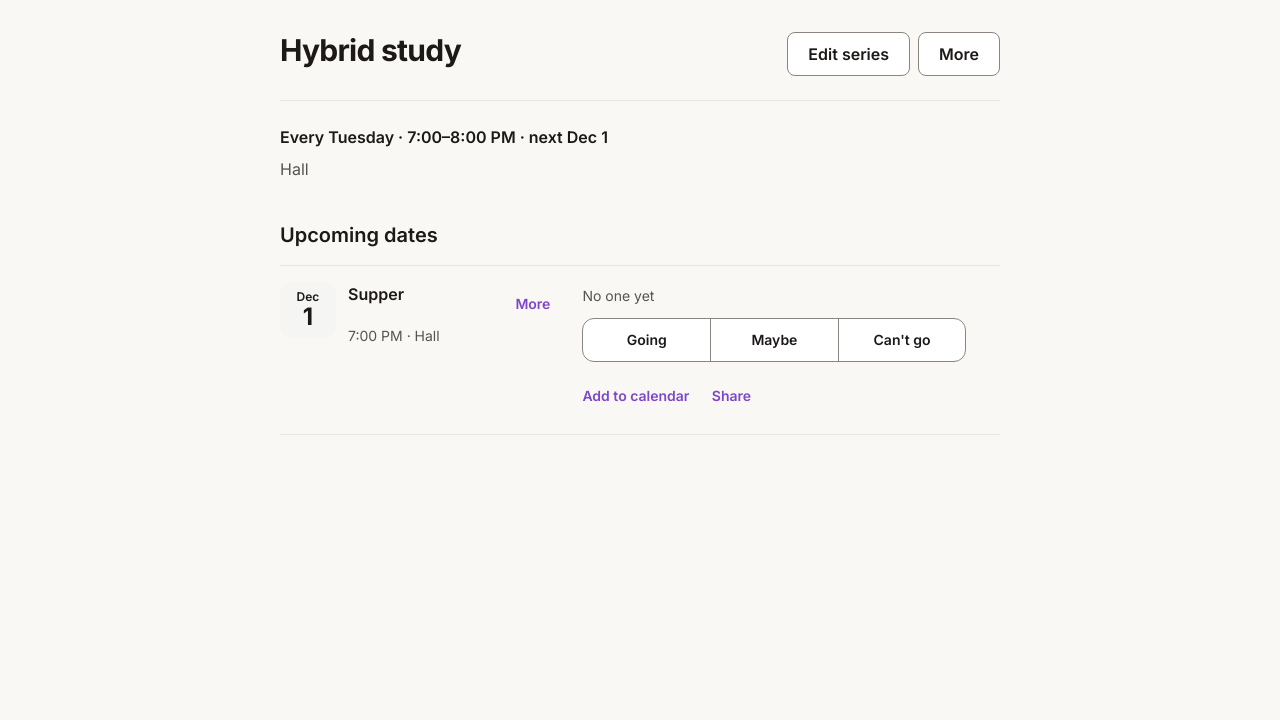
it: uses the shared scope dialog for a recurring date
Click the button "Maybe".
click(774, 340)  # box [710, 318, 839, 362]
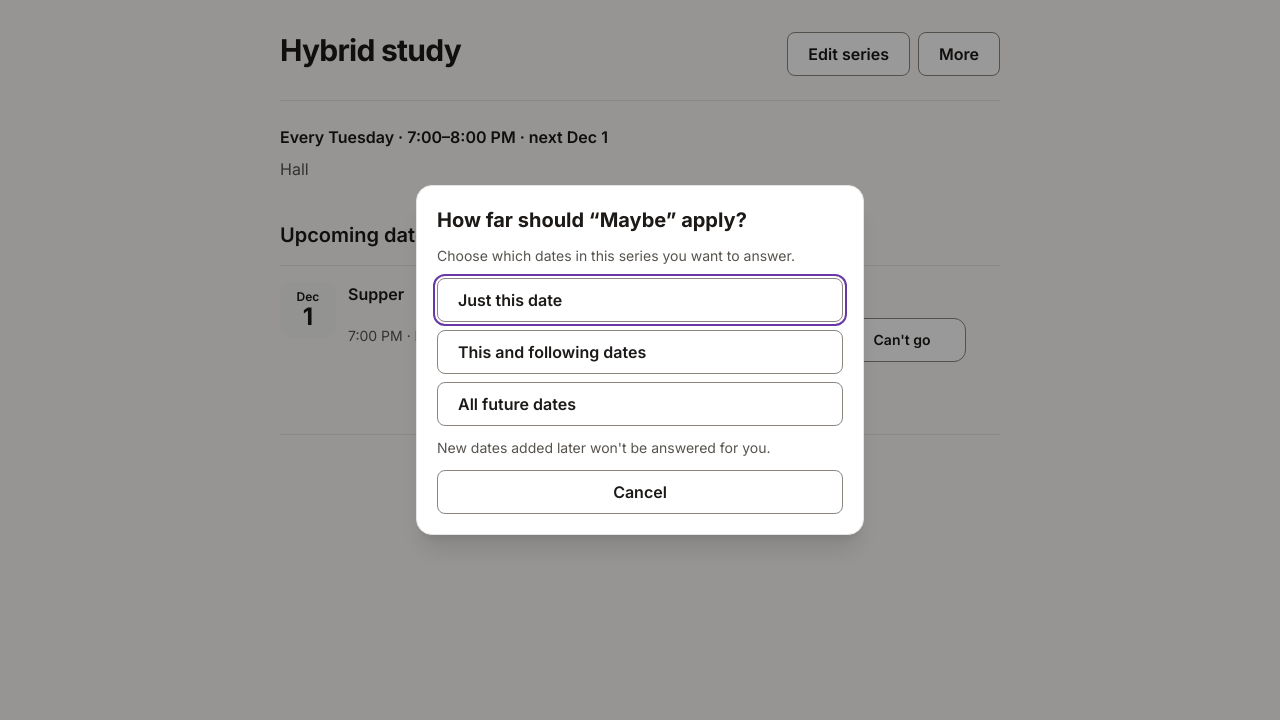
Now the dialog "How far should “Maybe” apply" is shown, box [416, 185, 864, 535]
